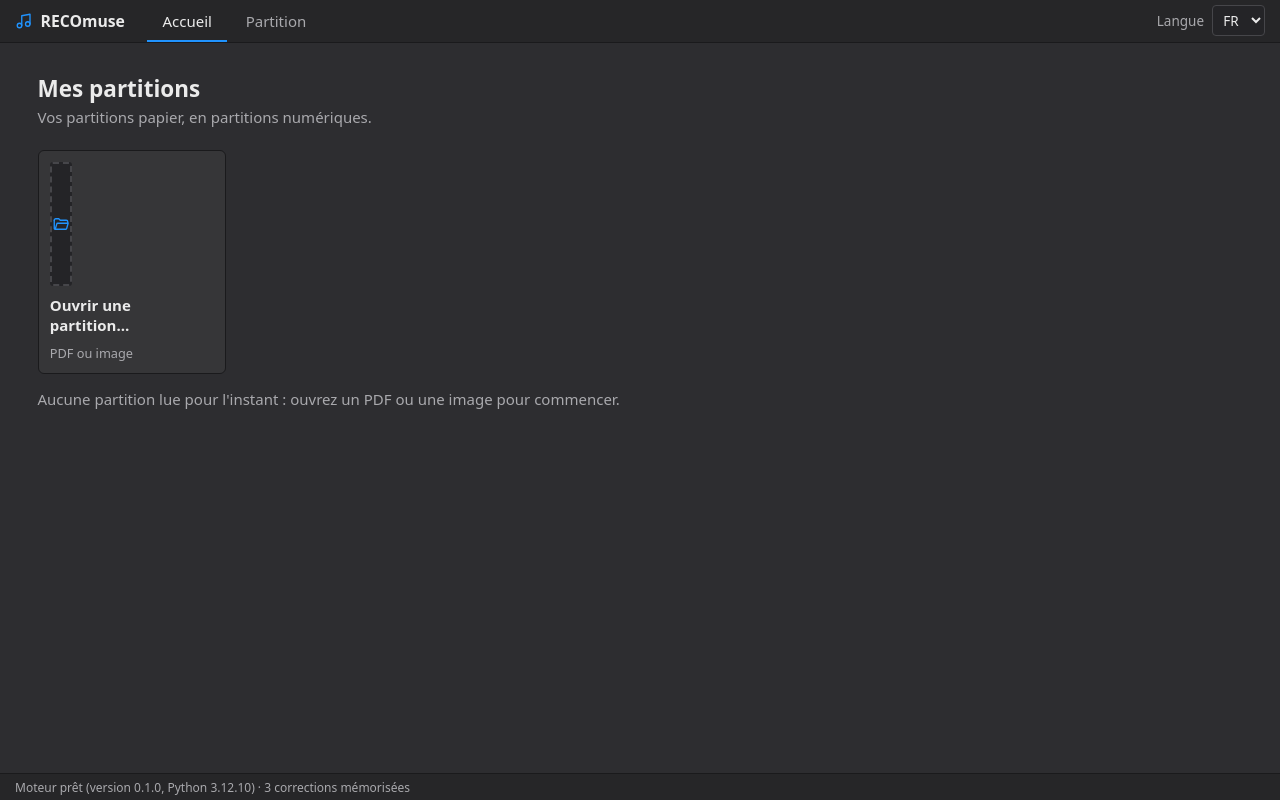
Test: mémoire et règles dans les autres écrans › annonce une partie déjà lue à son ouverture
expect the text "Moteur prêt (version 0.1.0, Python 3.12.10) · 3 corrections mémorisées" is shown: met, box [0,773,1279,799]
Click the button "Ouvrir une partition… PDF ou image" at (132, 262), box [38,150,226,374]
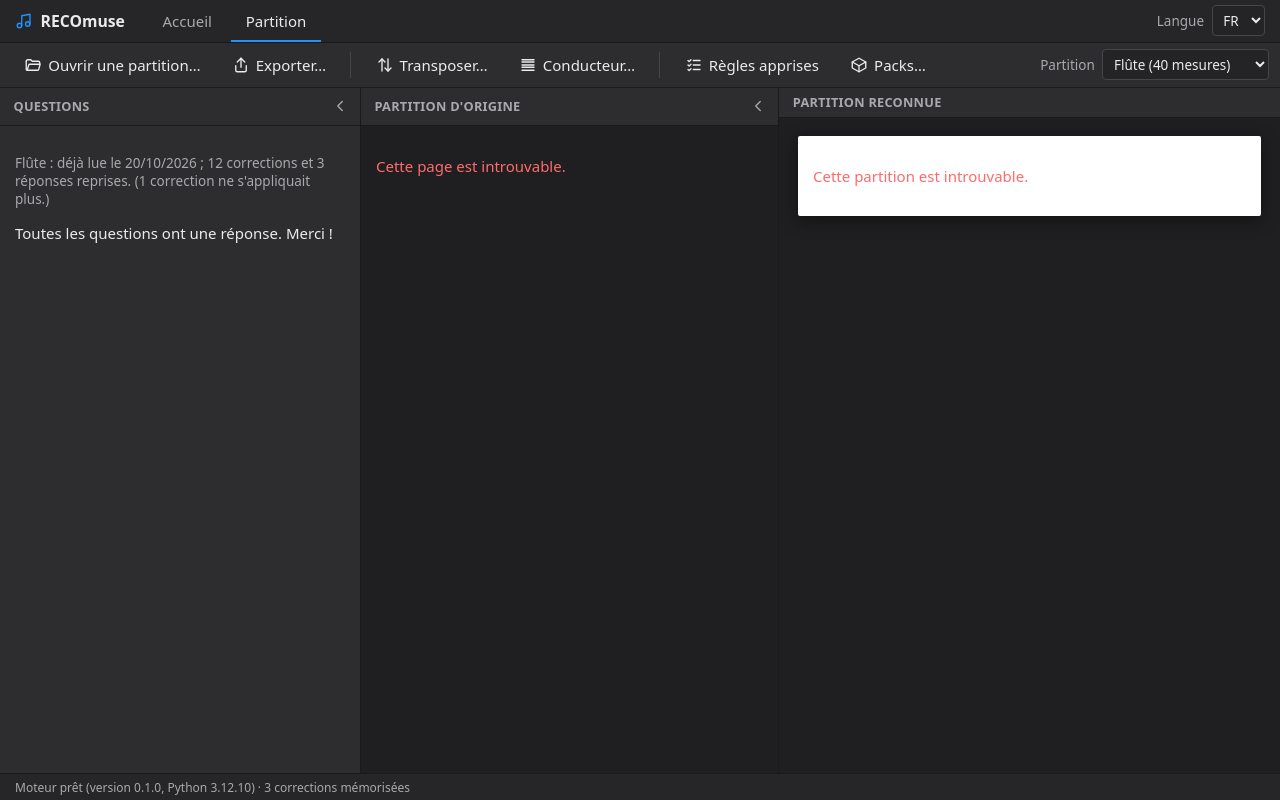
expect the text "(1 correction ne s'appliquait plus.)" is shown: met, box [15,172,310,208]
